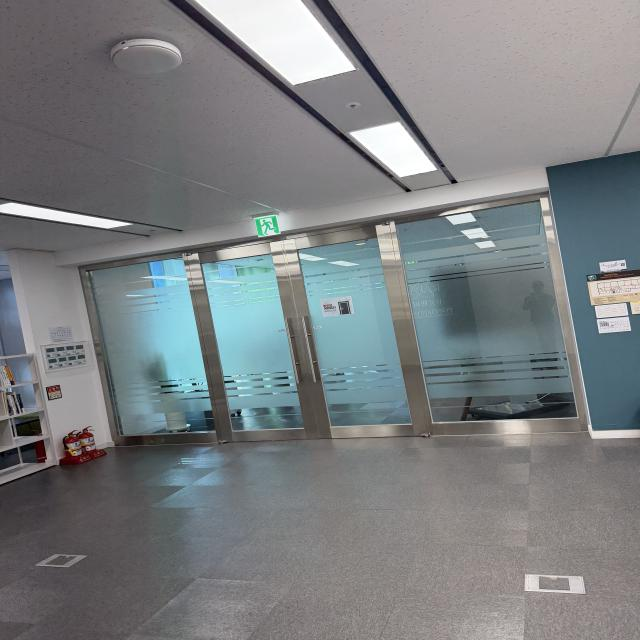front_door: (84, 194, 587, 445)
